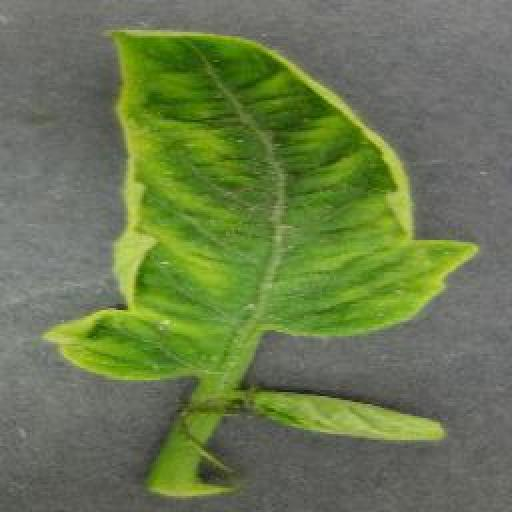disease_tomato: (41, 26, 479, 378), (252, 388, 450, 444)
